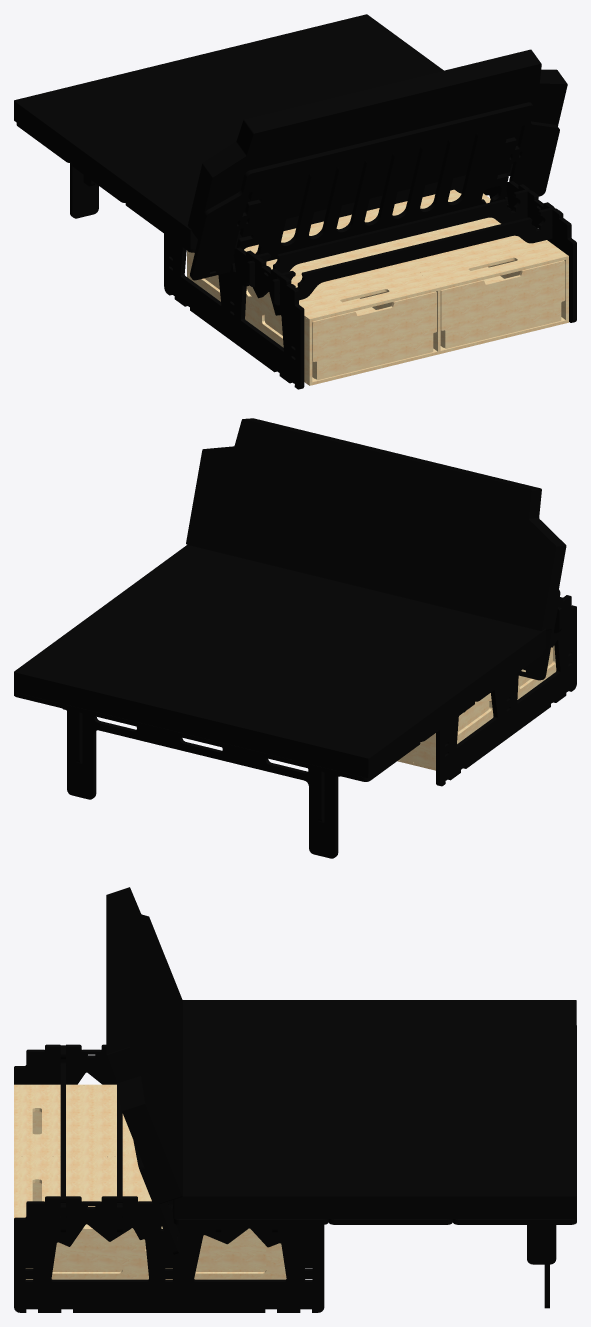
Rendered from Cuillin_expedition_detente.glb.
The picture shows the model from 3 angles, top to bottom: view 1: azimuth 30°, elevation 25°; view 2: azimuth 150°, elevation 25°; view 3: azimuth 270°, elevation 25°; orthographic projection. The views are drawn at different scales.
Bounding box in the file's own units: 1.51 × 0.9563 × 1.81.
2 materials, 1 textured.
